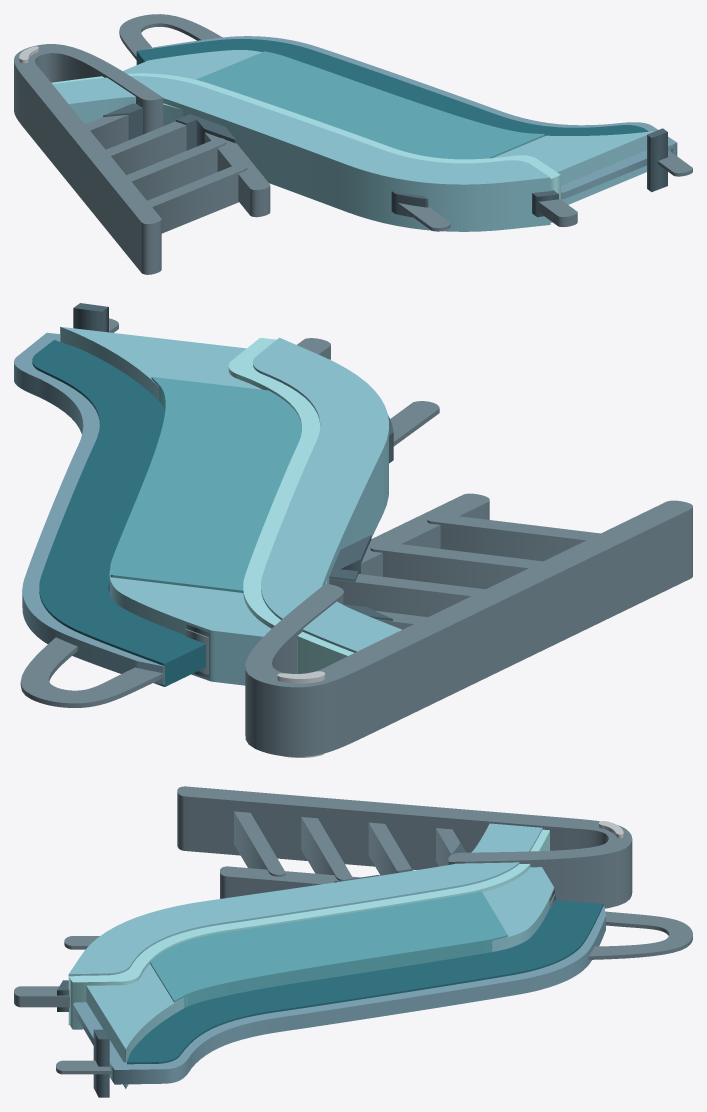
The model's file is emoji_u1f6dd.glb.
3 renders of one model, top to bottom at view 1: azimuth 30°, elevation 25°; view 2: azimuth 150°, elevation 25°; view 3: azimuth 270°, elevation 25°, orthographic. The views are drawn at different scales.
Visible parts, largest first — view 1: emoji_u1f6dd; view 2: emoji_u1f6dd; view 3: emoji_u1f6dd.
Boxes of the visible parts, x1,y1,x2,y2 form: emoji_u1f6dd: [14, 14, 692, 274]; emoji_u1f6dd: [14, 303, 692, 757]; emoji_u1f6dd: [14, 786, 692, 1097].
Size of the model in its own units: 0.0311 by 0.0034 by 0.0339.
